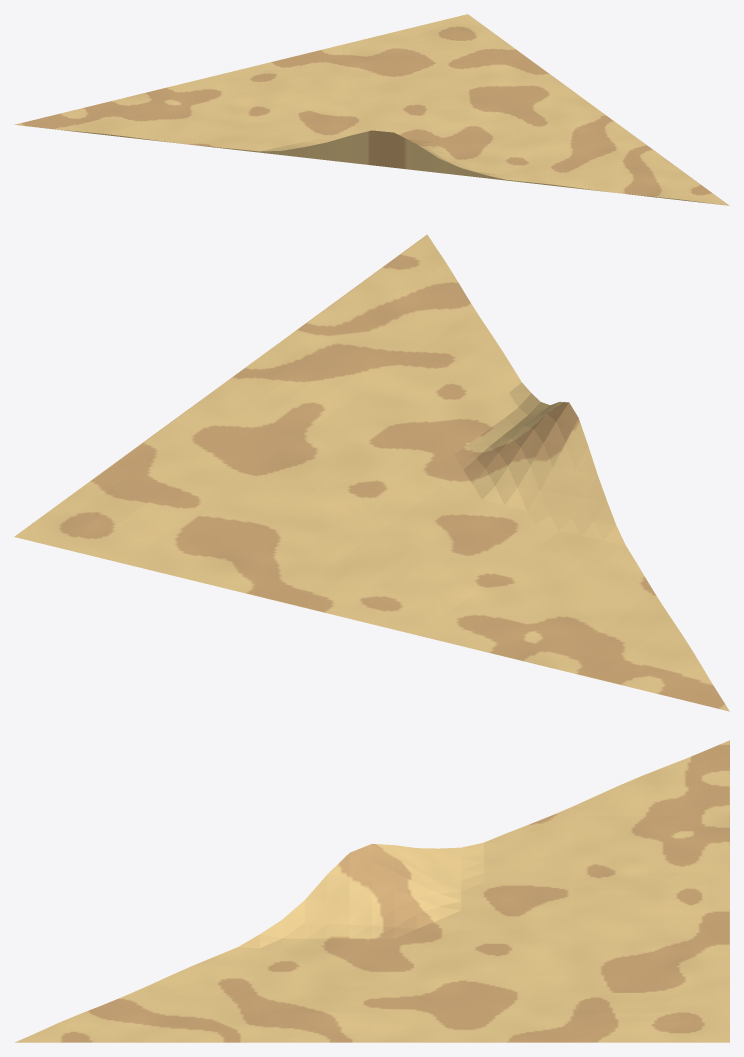
Rendered from Desert_Mountains_07_SE.obj.
3 renders of one model, top to bottom at view 1: azimuth 30°, elevation 25°; view 2: azimuth 150°, elevation 25°; view 3: azimuth 270°, elevation 25°, orthographic. The views are drawn at different scales.
Size of the model in its own units: 10 by 0.7426 by 10.
1 material, 1 textured.
